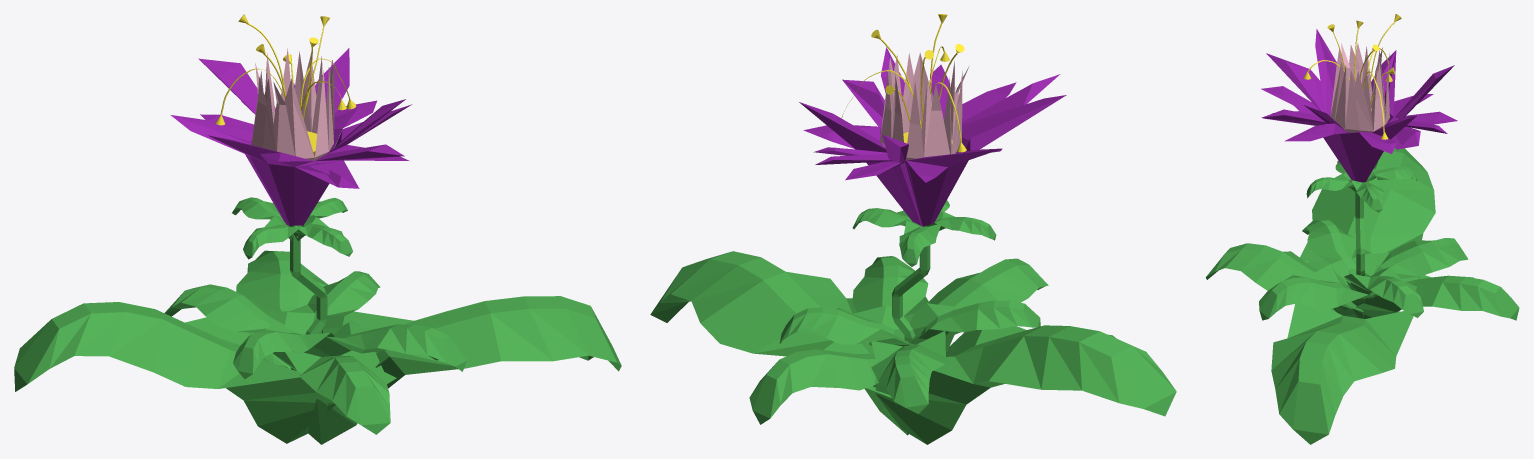
The model's file is flower.fbx.
3 views of the same model, side by side, from view 1: azimuth 30°, elevation 25°; view 2: azimuth 150°, elevation 25°; view 3: azimuth 270°, elevation 25° (orthographic). The views are drawn at different scales.
Visible parts, largest first — view 1: mesh_493660316, mesh_2025413672, group_1079215419, group_179840814, mesh_2015731566, mesh_33396270, mesh_1369034228, mesh_47038190, mesh_288467832, mesh_1854086560, group_1386106554, group_1143810337 (+4 smaller); view 2: mesh_493660316, group_1079215419, mesh_2025413672, group_179840814, mesh_1369034228, mesh_47038190, mesh_2015731566, mesh_288467832, mesh_1854086560, mesh_33396270, group_1386106554, group_1143810337 (+3 smaller); view 3: mesh_2025413672, group_1079215419, mesh_493660316, mesh_1369034228, group_179840814, mesh_2015731566, mesh_33396270, mesh_47038190, mesh_1854086560, mesh_288467832, group_1386106554, group_1143810337 (+3 smaller).
Part boxes in pixels (<box>): mesh_493660316: <box>14,302,335,443</box>; mesh_2025413672: <box>307,296,621,444</box>; group_1079215419: <box>170,48,412,226</box>; group_179840814: <box>251,48,334,160</box>; mesh_2015731566: <box>272,350,396,434</box>; mesh_33396270: <box>304,322,466,371</box>; mesh_1369034228: <box>236,250,349,369</box>; mesh_47038190: <box>164,284,288,332</box>; mesh_288467832: <box>285,271,380,334</box>; mesh_1854086560: <box>233,320,334,378</box>; group_1386106554: <box>215,14,355,157</box>; group_1143810337: <box>290,234,327,334</box>; mesh_493660316: <box>875,325,1176,444</box>; group_1079215419: <box>799,47,1066,226</box>; mesh_2025413672: <box>650,251,908,435</box>; group_179840814: <box>880,52,969,160</box>; mesh_1369034228: <box>749,342,878,424</box>; mesh_47038190: <box>868,331,949,413</box>; mesh_2015731566: <box>929,258,1048,351</box>; mesh_288467832: <box>779,305,913,346</box>; mesh_1854086560: <box>906,300,1040,345</box>; mesh_33396270: <box>852,256,929,343</box>; group_1386106554: <box>841,14,966,152</box>; group_1143810337: <box>892,245,930,341</box>; mesh_2025413672: <box>1271,303,1413,444</box>; group_1079215419: <box>1261,29,1457,182</box>; mesh_493660316: <box>1300,147,1435,312</box>; mesh_1369034228: <box>1353,275,1519,320</box>; group_179840814: <box>1330,42,1389,132</box>; mesh_2015731566: <box>1205,243,1364,317</box>; mesh_33396270: <box>1259,264,1374,320</box>; mesh_47038190: <box>1364,238,1468,302</box>; mesh_1854086560: <box>1302,219,1377,283</box>; mesh_288467832: <box>1344,267,1423,317</box>; group_1386106554: <box>1303,14,1401,139</box>; group_1143810337: <box>1355,189,1364,275</box>.
Bounding box in the file's own units: 389 × 281 × 242.
